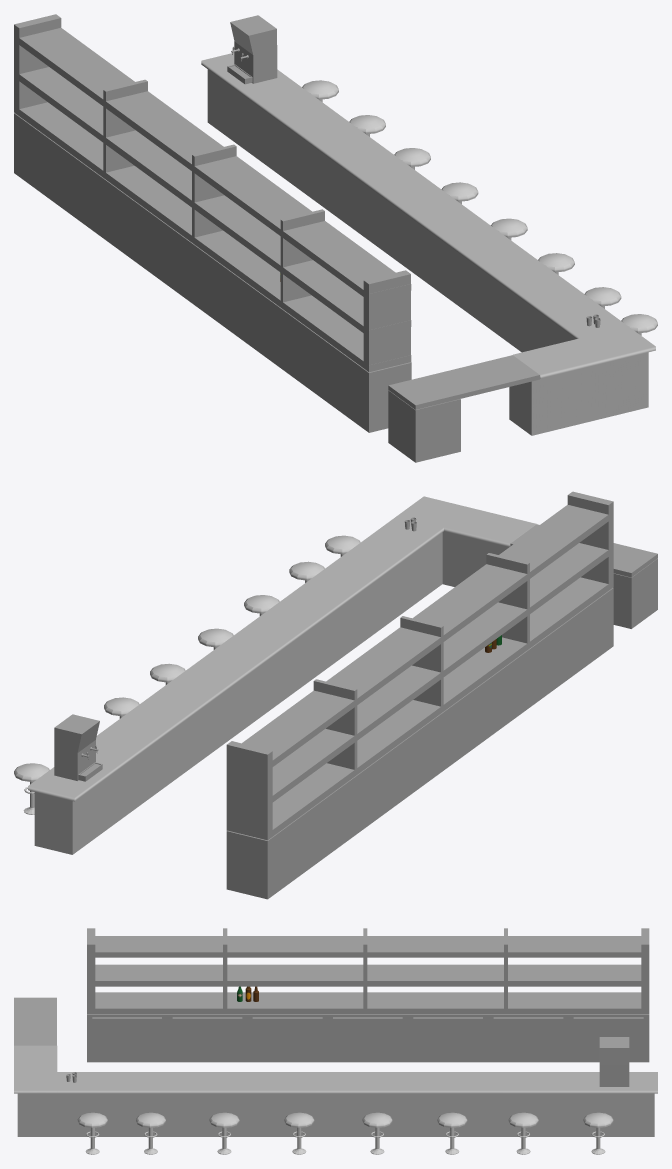
Rendered from bar.fbx.
3 views of the same model, one above another, from view 1: azimuth 30°, elevation 25°; view 2: azimuth 150°, elevation 25°; view 3: azimuth 270°, elevation 25° (orthographic). The views are drawn at different scales.
Visible parts, largest first — view 1: polySurface70, polySurface74, polySurface71, polySurface88, polySurface82, polySurface84, polySurface73, polySurface90, polySurface83, polySurface37, polySurface89, polySurface85 (+2 smaller); view 2: polySurface70, polySurface74, polySurface71, polySurface88, polySurface82, polySurface84, polySurface89, polySurface37, polySurface90, polySurface83, polySurface87, polySurface86 (+2 smaller); view 3: polySurface70, polySurface71, polySurface82, polySurface84, polySurface88, polySurface74, polySurface76, polySurface79, polySurface80, polySurface77, polySurface78, polySurface81 (+15 smaller).
Part boxes in pixels (x1,y1,x2,y2): polySurface70: (207,69,648,435); polySurface74: (14,113,411,432); polySurface71: (201,52,655,378); polySurface88: (14,28,411,300); polySurface82: (14,67,411,337); polySurface84: (14,102,411,372); polySurface73: (388,355,539,409); polySurface90: (388,390,460,462); polySurface83: (363,270,410,366); polySurface37: (227,15,277,84); polySurface89: (14,14,61,109); polySurface85: (280,209,324,302); polySurface70: (34,531,508,854); polySurface74: (226,588,613,899); polySurface71: (28,496,536,801); polySurface88: (242,504,608,769); polySurface82: (267,543,608,805); polySurface84: (226,577,613,840); polySurface89: (226,741,272,834); polySurface37: (54,714,102,781); polySurface90: (613,558,657,628); polySurface83: (567,491,613,584); polySurface87: (313,679,357,770); polySurface86: (400,616,443,707); polySurface70: (17,1093,654,1136); polySurface71: (14,1045,657,1093); polySurface82: (87,964,649,986); polySurface84: (87,992,649,1014); polySurface88: (87,936,649,957); polySurface74: (87,1014,649,1062); polySurface76: (493,1017,563,1060); polySurface79: (252,1017,322,1060); polySurface80: (172,1017,242,1060); polySurface77: (413,1017,482,1060); polySurface78: (333,1017,402,1060); polySurface81: (92,1017,161,1060).
Size of the model in its own units: 375 by 184 by 910.
